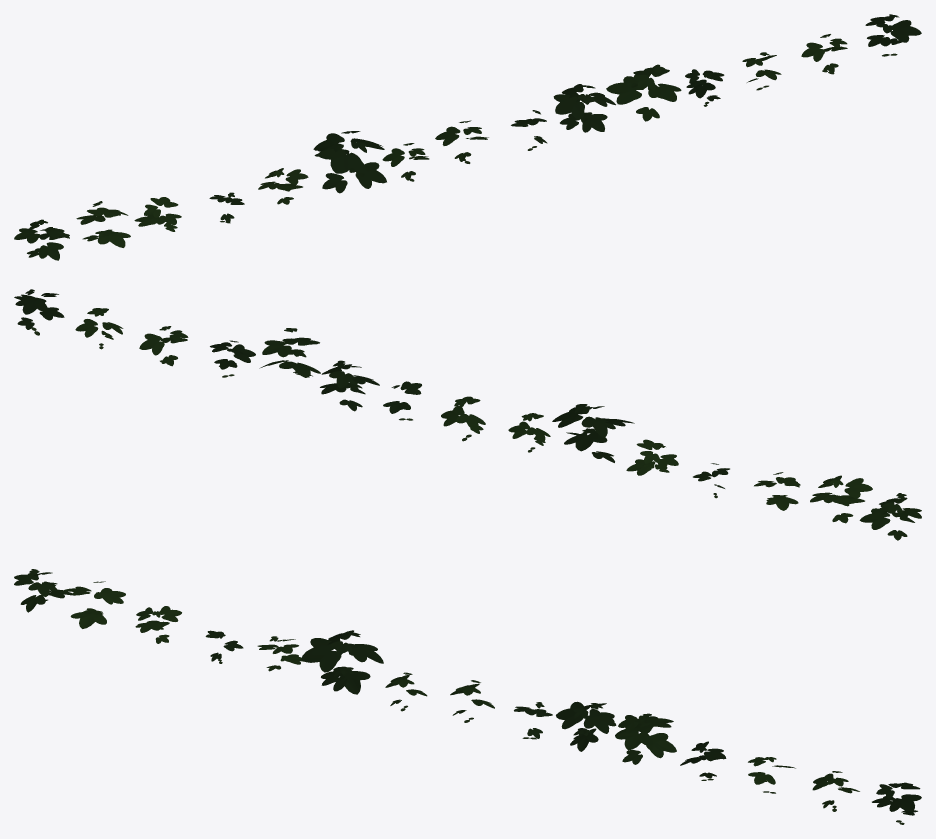
Rendered from ROW_12_SEG3_foliage.dae.
3 views of the same model, one above another, from view 1: azimuth 30°, elevation 25°; view 2: azimuth 150°, elevation 25°; view 3: azimuth 330°, elevation 25° (orthographic).
Visible parts, largest first — view 1: ROW_12_SEG3_foliage; view 2: ROW_12_SEG3_foliage; view 3: ROW_12_SEG3_foliage.
Part boxes in pixels (box(x1,y1,x2,y2)): ROW_12_SEG3_foliage: box(14, 14, 921, 260); ROW_12_SEG3_foliage: box(14, 289, 921, 540); ROW_12_SEG3_foliage: box(14, 569, 921, 824).
Bounding box in the file's own units: 4.53 × 0.3799 × 0.2861.
